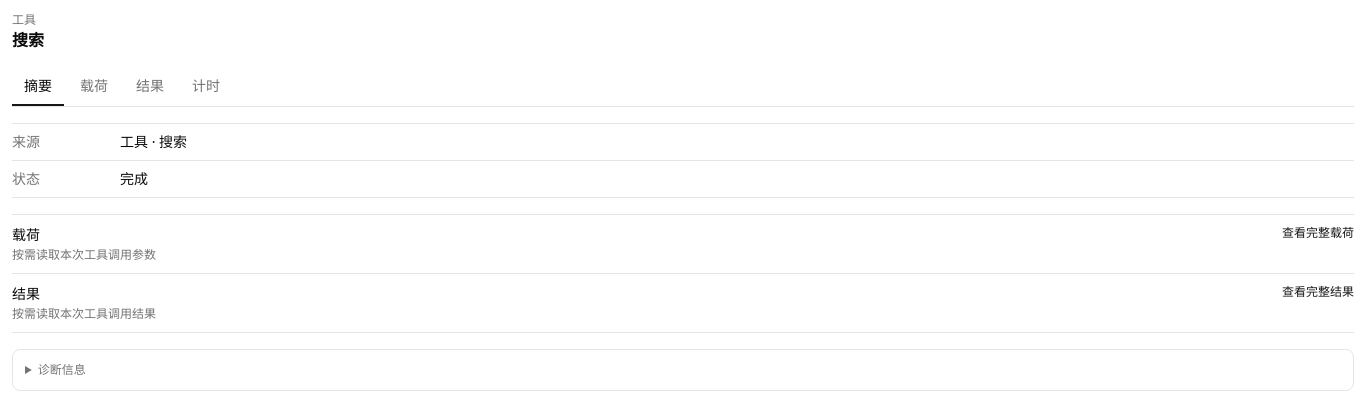
Test: TrajectoryNodeDetailPanel › 网络失败不冒充 degraded，并提供键盘可用的手动重试
Click the tab "载荷".
click(94, 87)  # box [68,68,120,106]
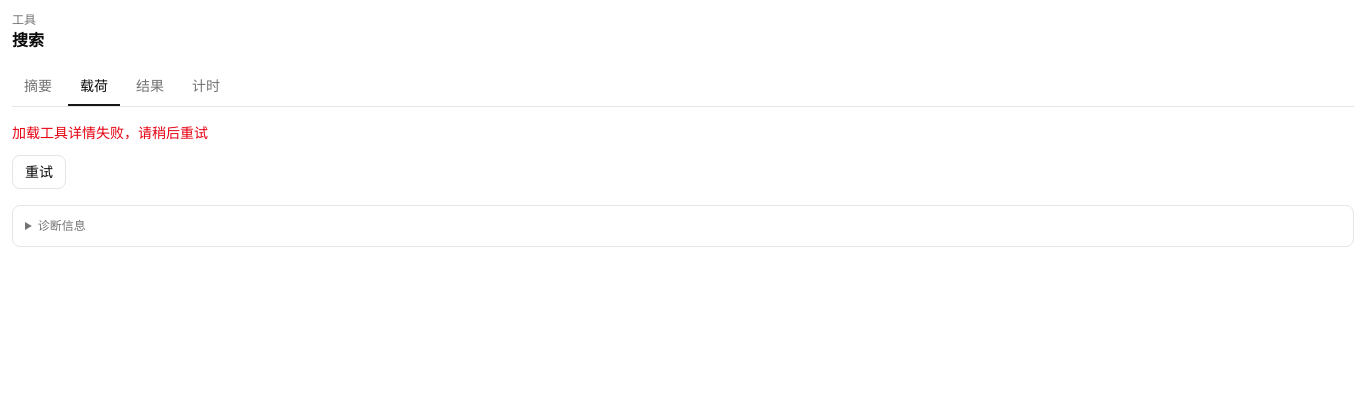
Expected: the message reads "加载工具详情失败，请稍后重试", [12,123,208,142]
Click the button "重试".
click(39, 172)  # box [12,155,66,189]
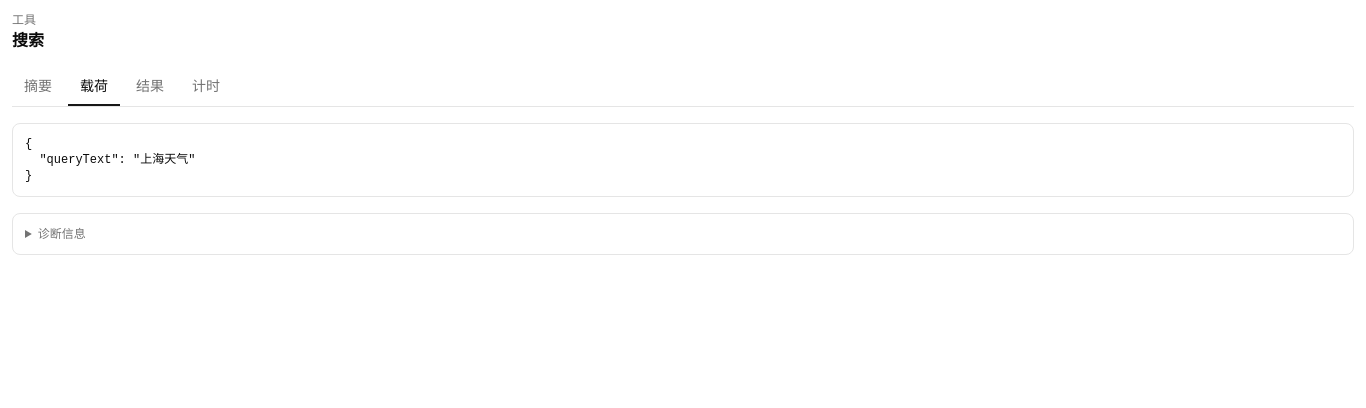
Expected: the text "{ \"queryText\": \"上海天气\" }" is shown, [25,137,195,183]
